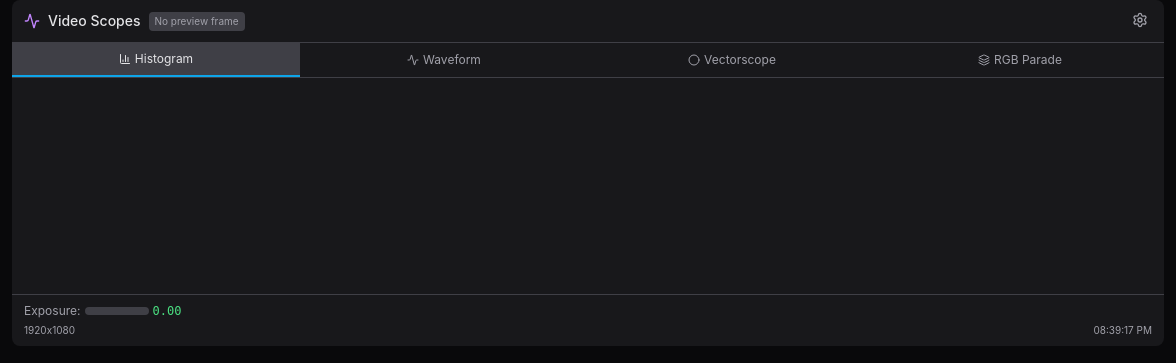
Test case: VideoScopesPanel › settings › should toggle settings panel when button is clicked
The width and height of the screenshot is (1176, 363).
Step 1. Click the button named "settings" → (1140,20), box [1128,8,1152,32]
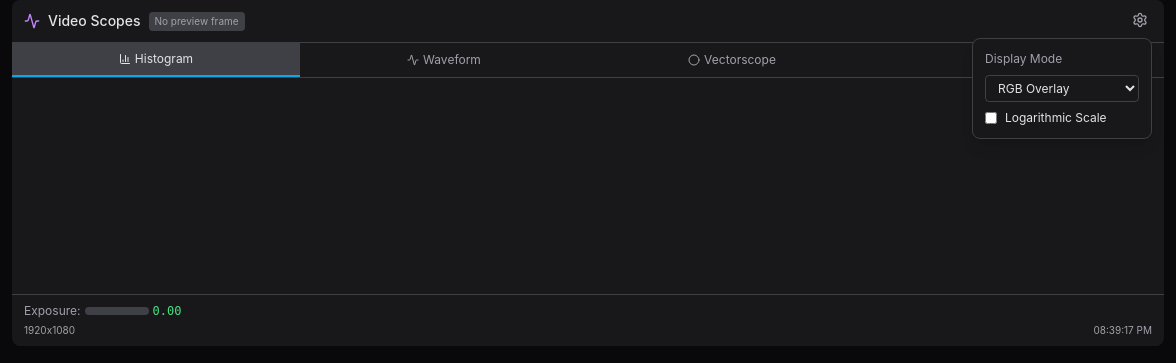
Now the text "Display Mode" is shown, box [985,51,1062,66]
